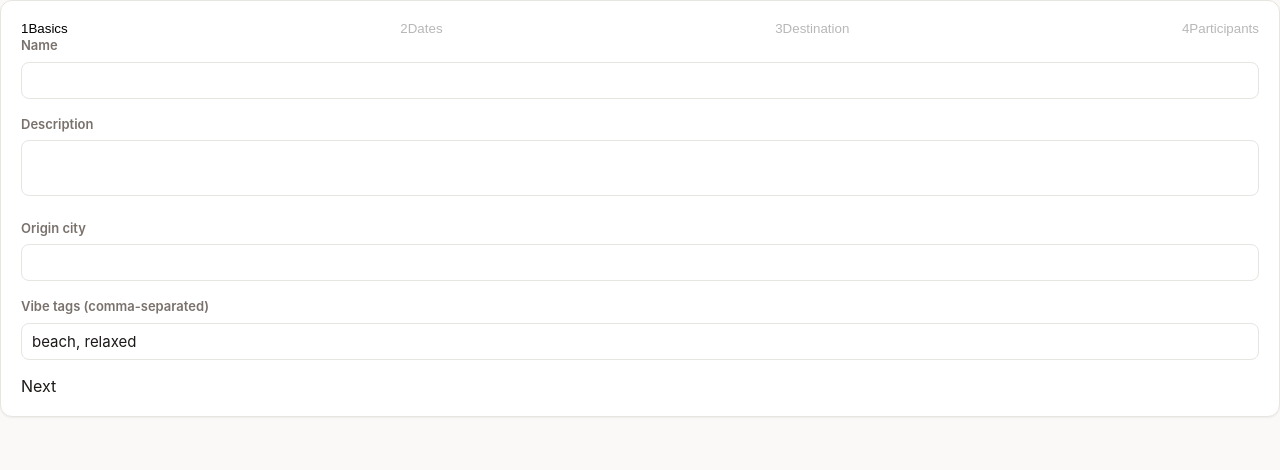
Test: TripWizard › cannot advance past Basics without a name
This screenshot has width=1280, height=470.
Click the button with test id "wizard-next".
click(39, 386)  # box [21,376,56,396]
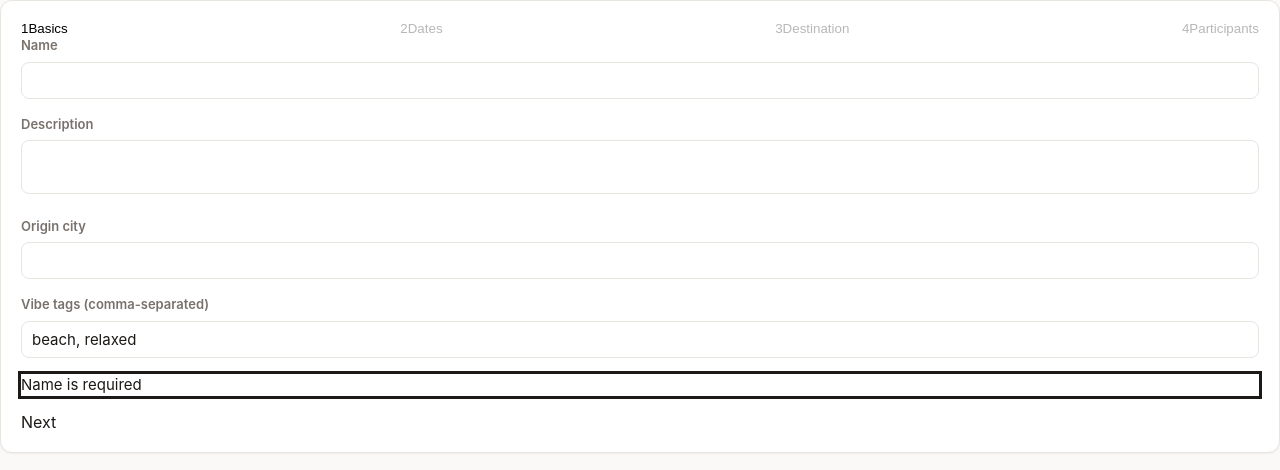
Expected: the field labelled "Name" is shown, [21,62,1259,98]
Result: the text "Name is required" is shown at [21,374,142,396]
